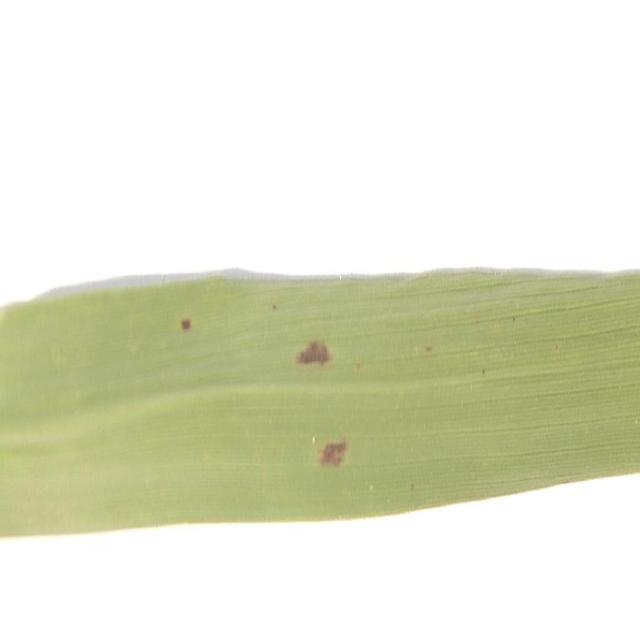Brown_Spot: (289, 307, 352, 402), (315, 426, 366, 481), (170, 302, 205, 354)
